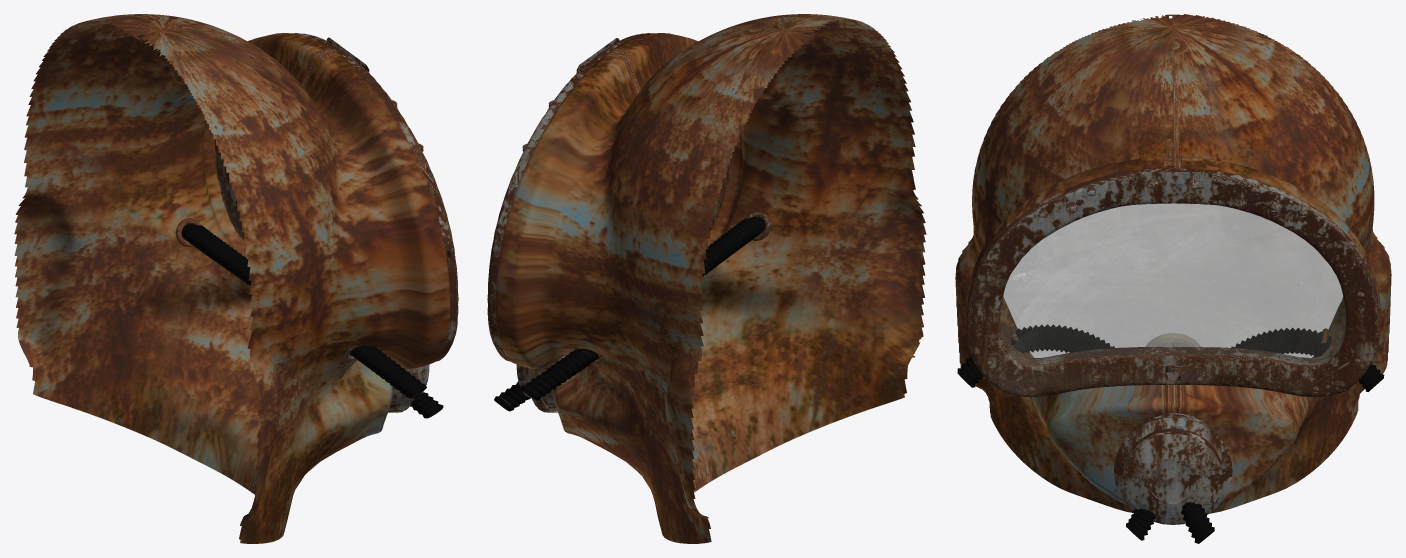
File: Helmet.fbx
The picture shows the model from 3 angles, left to right: view 1: azimuth 30°, elevation 25°; view 2: azimuth 150°, elevation 25°; view 3: azimuth 270°, elevation 25°; orthographic projection. The views are drawn at different scales.
Parts seen in each view (by area): view 1: main.002, matal, corrugated, corrugated.001, matal.001; view 2: main.002, matal, corrugated.001, corrugated, matal.001; view 3: main.002, glass, matal, matal.001, corrugated, corrugated.001, base_de_medidor_obj.
Boxes of the visible parts, x1=… form: main.002: x1=14, y1=14, x2=450, y2=543; matal: x1=214, y1=33, x2=458, y2=361; corrugated: x1=350, y1=345, x2=443, y2=418; corrugated.001: x1=181, y1=223, x2=251, y2=285; matal.001: x1=388, y1=364, x2=429, y2=412; main.002: x1=495, y1=14, x2=926, y2=543; matal: x1=487, y1=33, x2=730, y2=361; corrugated.001: x1=494, y1=348, x2=598, y2=411; corrugated: x1=702, y1=216, x2=765, y2=276; matal.001: x1=516, y1=360, x2=557, y2=412; main.002: x1=955, y1=14, x2=1391, y2=513; glass: x1=1000, y1=203, x2=1346, y2=365; matal: x1=966, y1=168, x2=1379, y2=397; matal.001: x1=1114, y1=412, x2=1232, y2=524; corrugated: x1=957, y1=324, x2=1155, y2=540; corrugated.001: x1=1181, y1=328, x2=1384, y2=543; base_de_medidor_obj: x1=1146, y1=333, x2=1200, y2=346.
Size of the model in its own units: 159 by 244 by 216.
11 materials, 7 textured.
